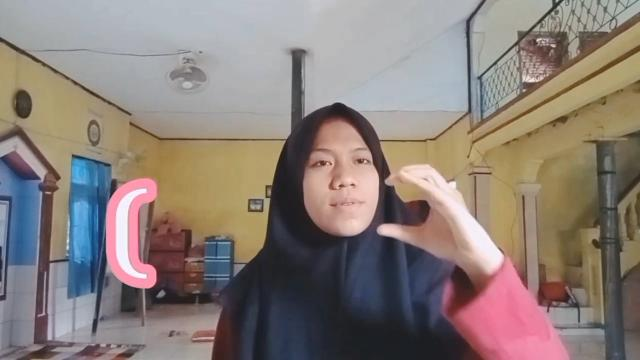C: (377, 162, 489, 270)
